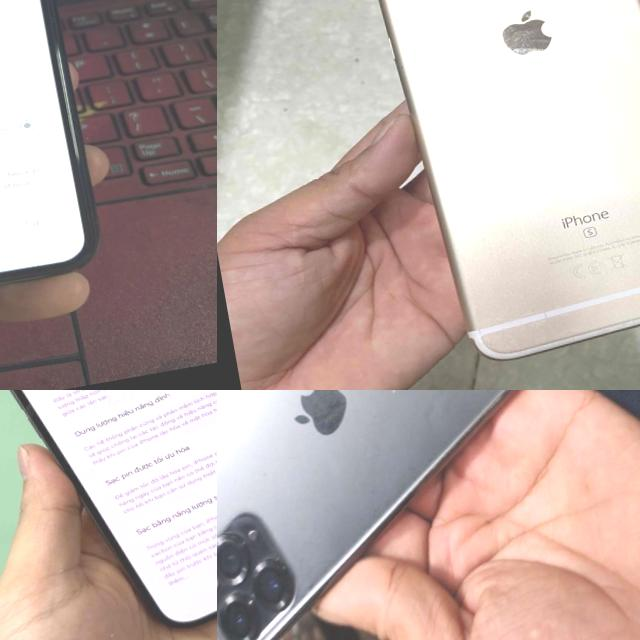gen_11: (217, 390, 510, 640), (0, 0, 105, 319)
gen_14: (0, 390, 217, 640)
gen_6: (379, 0, 640, 359)
